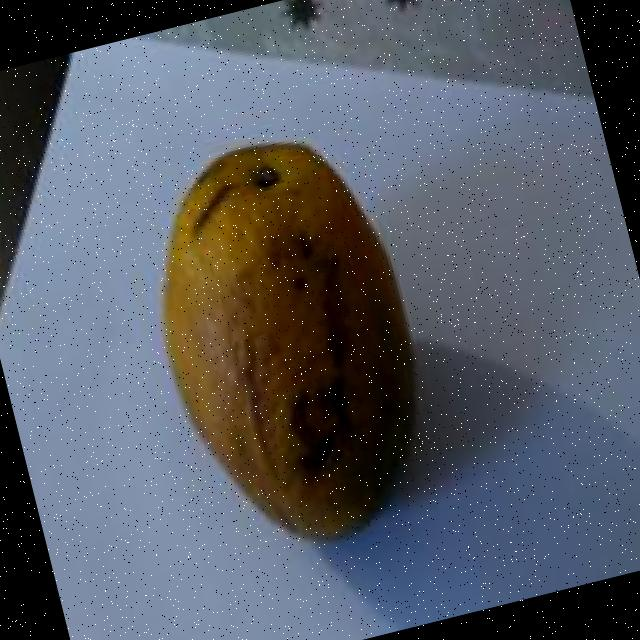overripe: (119, 112, 466, 583)
